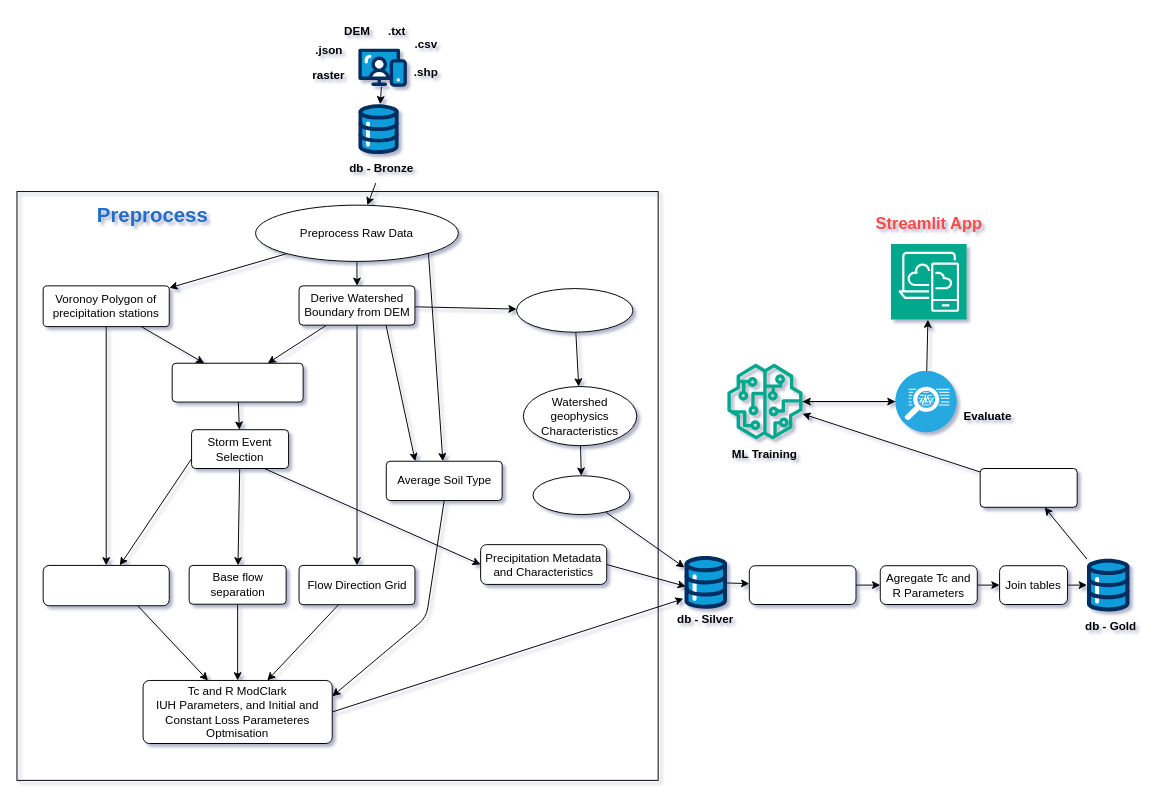
Some shapes in this 1166 by 803 pixel diagram are drawn without their labels. Here are the shapes that lost their labels. From the top down, the centre of each, then its label:
pixel 574 310: Vectorization
pixel 237 382: Average ppt data within the waterhsed
pixel 581 495: Feature Engineering
pixel 1028 487: Exploratory Data Analysis
pixel 105 585: Precipitation values for each grid cell
pixel 802 585: Indentify and Handle Outliers
